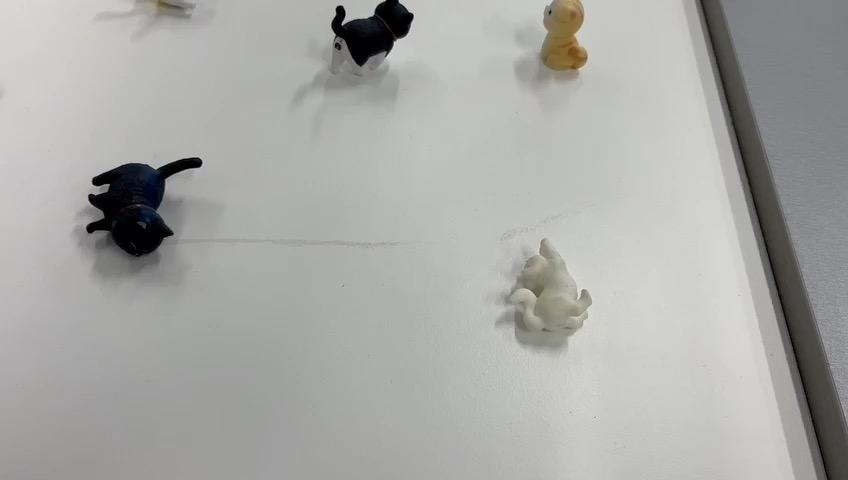pet: (81, 149, 214, 296), (483, 214, 605, 374), (313, 0, 428, 102), (523, 0, 611, 99)
